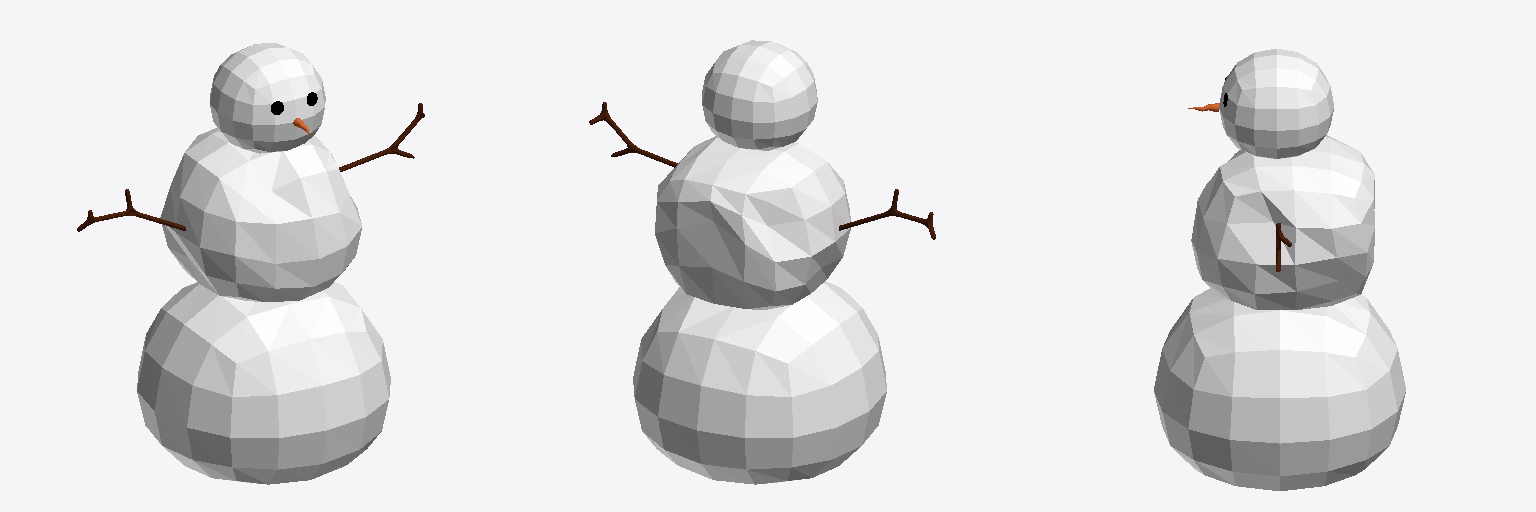
The picture shows the model from 3 angles: view 1: azimuth 30°, elevation 25°; view 2: azimuth 150°, elevation 25°; view 3: azimuth 270°, elevation 25°; orthographic projection.
Parts seen in each view (by area): view 1: Cube, Cube.001, Cube.002, Cube.006_Cube.008, Cube.003_Cube.004; view 2: Cube, Cube.001, Cube.002, Cube.003_Cube.004, Cube.006_Cube.008; view 3: Cube, Cube.001, Cube.002.
Part boxes in pixels (x1,y1,x2,y2): Cube: (137,282,390,484); Cube.001: (160,127,361,301); Cube.002: (210,43,325,153); Cube.006_Cube.008: (77,189,185,231); Cube.003_Cube.004: (339,103,424,171); Cube: (633,281,886,484); Cube.001: (655,136,850,309); Cube.002: (702,40,817,150); Cube.003_Cube.004: (589,102,677,167); Cube.006_Cube.008: (839,189,935,239); Cube: (1154,288,1405,490); Cube.001: (1191,135,1374,309); Cube.002: (1219,49,1333,158).
Bounding box in the file's own units: 2.66 × 3.02 × 1.68.
Materials: 9 (6 with a texture image).